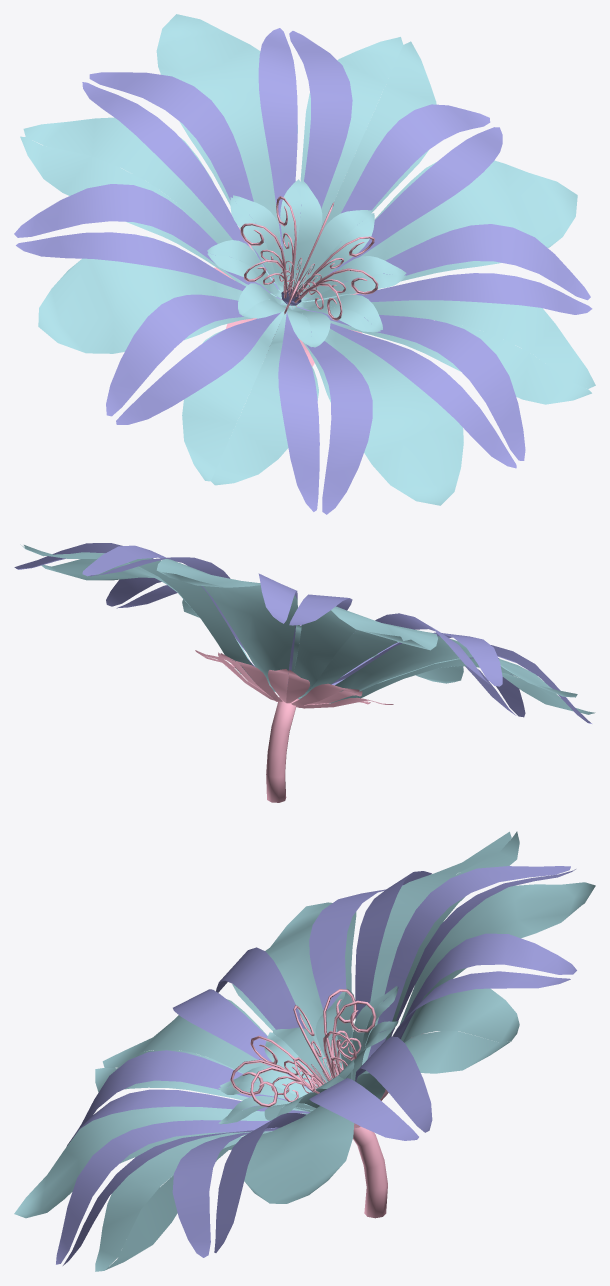
Rendered from bush_large.fbx.
The picture shows the model from 3 angles, top to bottom: view 1: azimuth 30°, elevation 25°; view 2: azimuth 150°, elevation 25°; view 3: azimuth 270°, elevation 25°; orthographic projection. The views are drawn at different scales.
Visible parts, largest first — view 1: Bush_Flower_Large; view 2: Bush_Flower_Large; view 3: Bush_Flower_Large.
Boxes of the visible parts, <box> form: Bush_Flower_Large: <box>14,14,595,514</box>; Bush_Flower_Large: <box>14,543,595,802</box>; Bush_Flower_Large: <box>14,831,595,1271</box>.
Bounding box in the file's own units: 1050 × 555 × 891.
